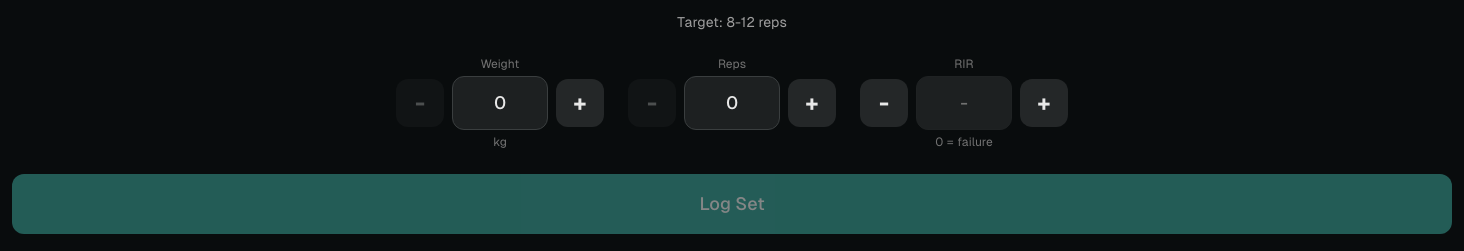
Scenario: SetLogger › Incrementing weight/reps via NumberStepper enables Log Set
expect the button "Log Set" is disabled: met, box [12,174,1452,234]
# Increment weight (first + button)
Click the button "+" below "Weight".
click(580, 103)  # box [556,79,604,127]
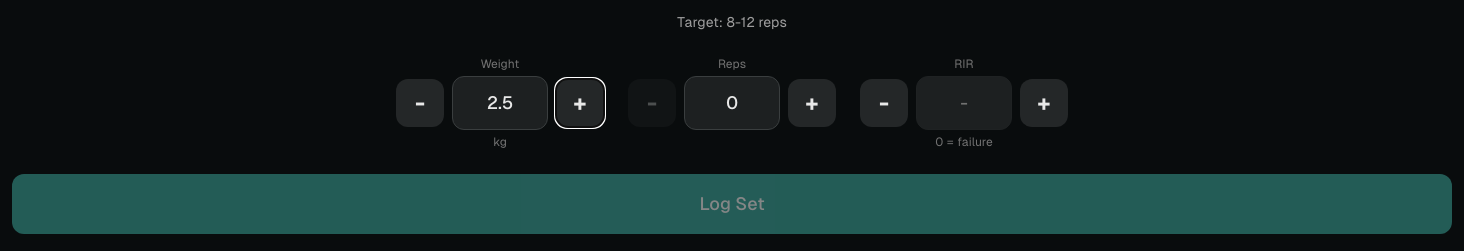
expect the button "Log Set" is disabled: met, box [12,174,1452,234]
# Increment reps (second + button)
Click the 2nd button "+".
click(812, 103)  # box [788,79,836,127]
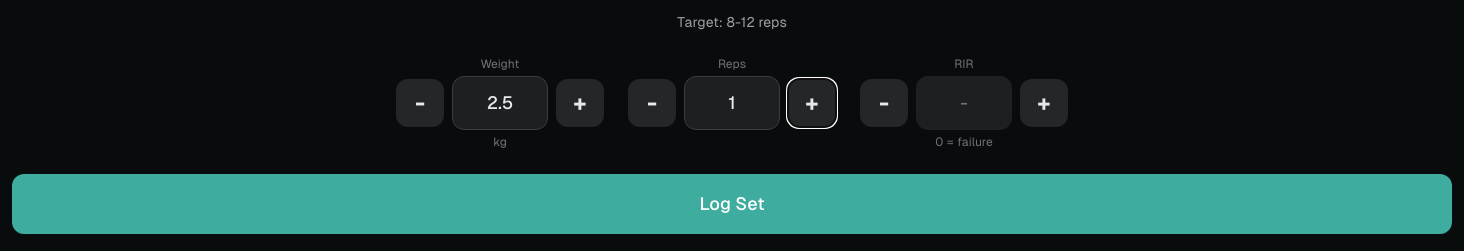
expect the button "Log Set" is enabled: met, box [12,174,1452,234]
